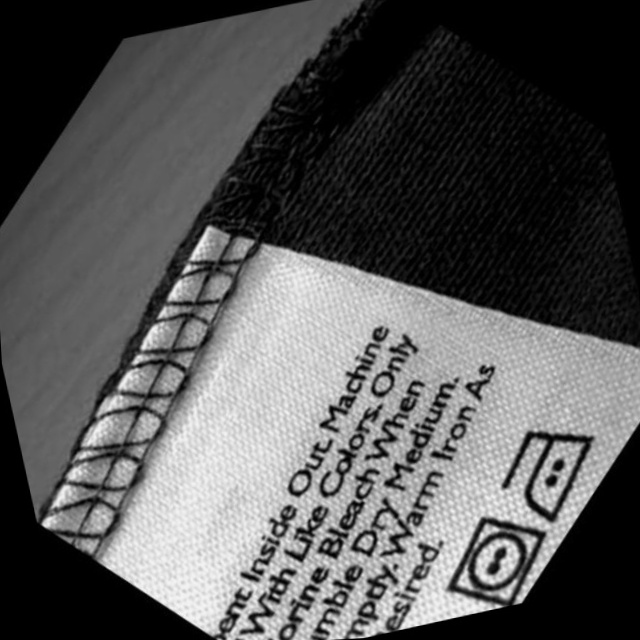iron_medium: (491, 414, 617, 529)
tumble_dry_medium: (435, 504, 563, 617)
